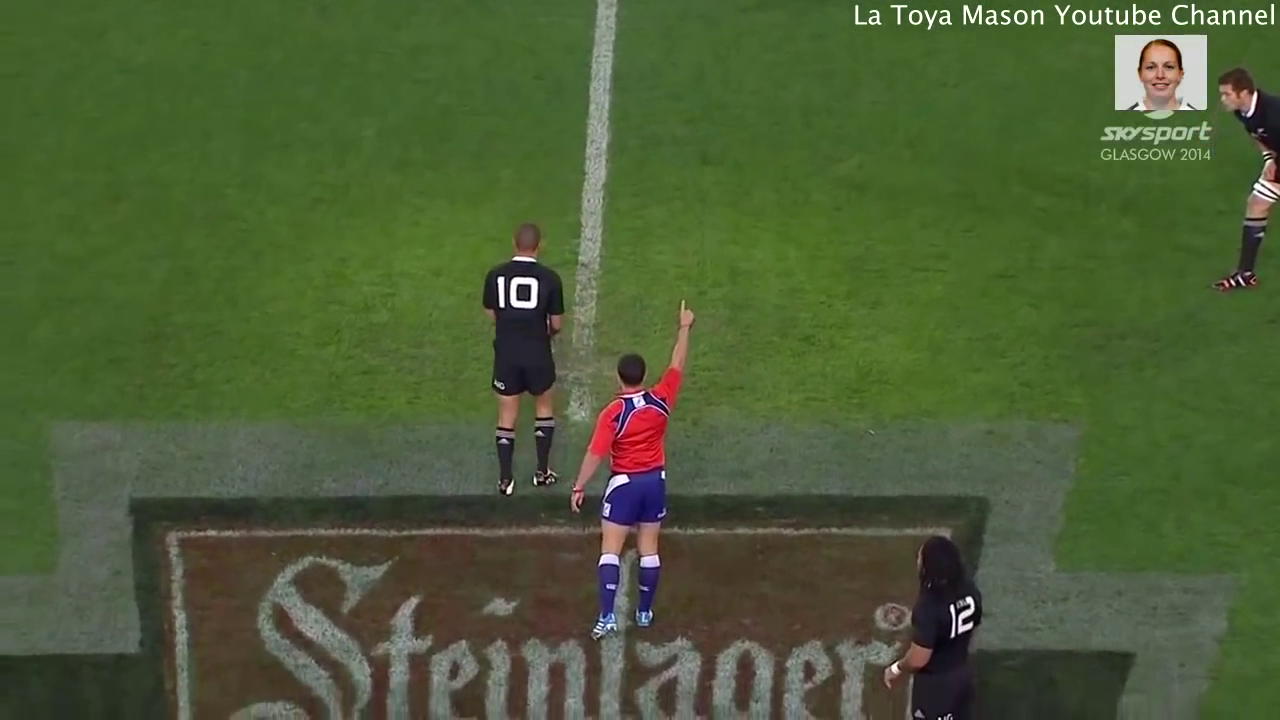player: (561, 296, 701, 650), (465, 207, 574, 508), (873, 516, 1000, 720), (1196, 56, 1280, 298)
